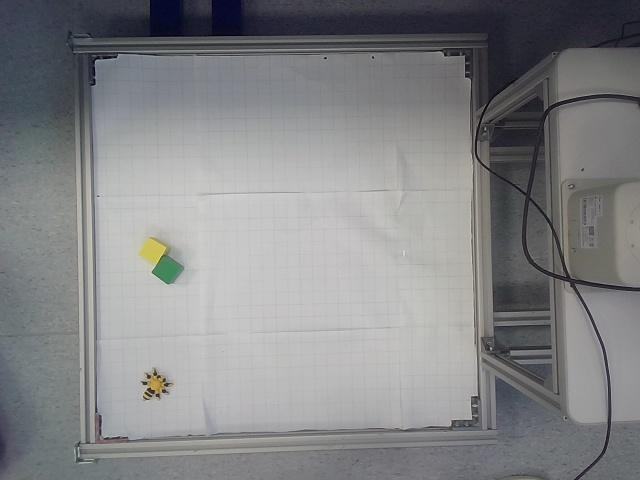frelon: (141, 368, 172, 401)
